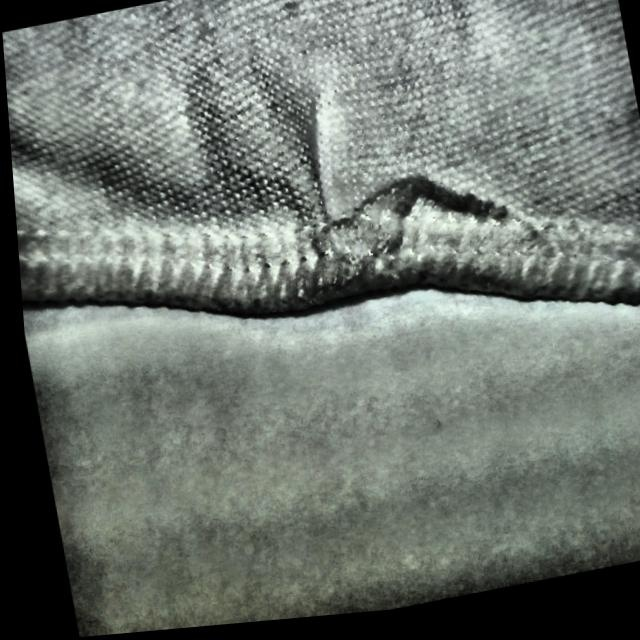seam: (250, 67, 525, 326)
